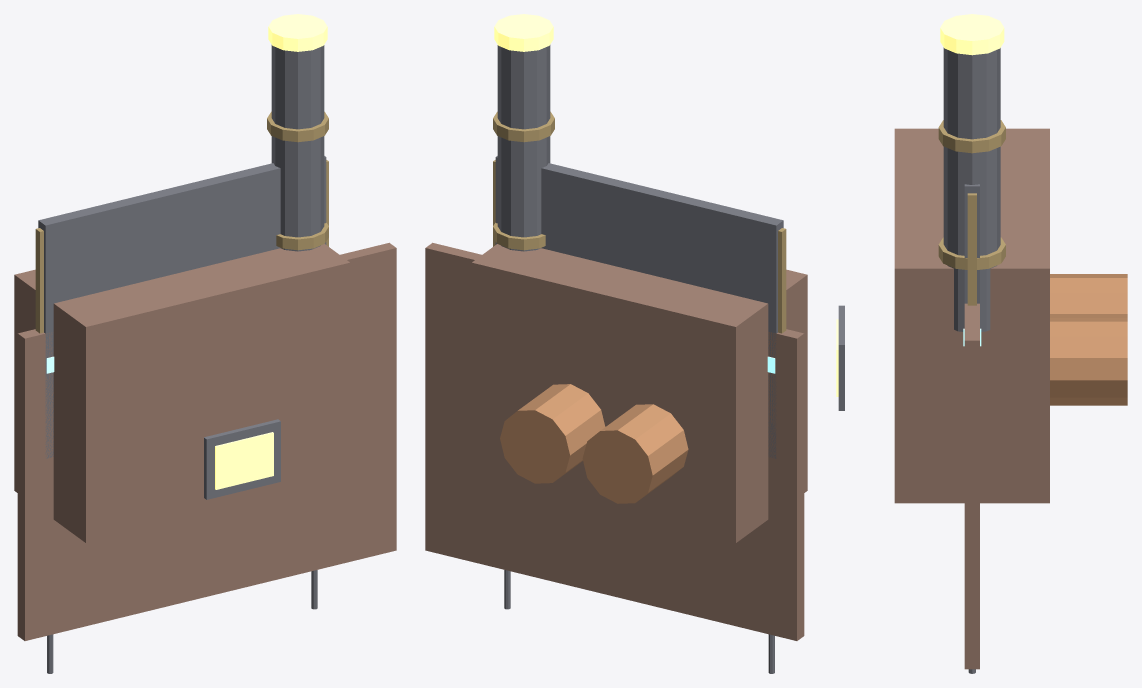
Rendered from gearforge_boiler_house.glb.
3 views of the same model, side by side, from view 1: azimuth 30°, elevation 25°; view 2: azimuth 150°, elevation 25°; view 3: azimuth 270°, elevation 25° (orthographic). The views are drawn at different scales.
Parts seen in each view (by area): view 1: gearforge_boiler_house_hall, gearforge_boiler_house_pad, gearforge_boiler_house_roof, gearforge_boiler_house_chimney, gearforge_boiler_house_furnace_mouth, gearforge_boiler_house_furnace_frame, gearforge_boiler_house_chimney_lip, gearforge_boiler_house_roof_trim, gearforge_boiler_house_chimney_band_b, gearforge_boiler_house_chimney_band_a; view 2: gearforge_boiler_house_hall, gearforge_boiler_house_pad, gearforge_boiler_house_roof, gearforge_boiler_house_chimney, gearforge_boiler_house_tank_0, gearforge_boiler_house_tank_1, gearforge_boiler_house_chimney_lip, gearforge_boiler_house_roof_trim, gearforge_boiler_house_chimney_band_b, gearforge_boiler_house_chimney_band_a; view 3: gearforge_boiler_house_hall, gearforge_boiler_house_chimney, gearforge_boiler_house_tank_1, gearforge_boiler_house_pad, gearforge_boiler_house_tank_0, gearforge_boiler_house_chimney_lip, gearforge_boiler_house_roof_trim, gearforge_boiler_house_chimney_band_b, gearforge_boiler_house_chimney_band_a, gearforge_boiler_house_roof, gearforge_boiler_house_furnace_frame.
Part boxes in pixels (x1=…): gearforge_boiler_house_hall: x1=14, y1=244, x2=350, y2=542; gearforge_boiler_house_pad: x1=17, y1=242, x2=396, y2=640; gearforge_boiler_house_roof: x1=38, y1=156, x2=326, y2=458; gearforge_boiler_house_chimney: x1=271, y1=45, x2=324, y2=251; gearforge_boiler_house_furnace_mouth: x1=215, y1=432, x2=273, y2=489; gearforge_boiler_house_furnace_frame: x1=204, y1=419, x2=280, y2=499; gearforge_boiler_house_chimney_lip: x1=268, y1=14, x2=327, y2=51; gearforge_boiler_house_roof_trim: x1=35, y1=160, x2=328, y2=333; gearforge_boiler_house_chimney_band_b: x1=267, y1=111, x2=328, y2=142; gearforge_boiler_house_chimney_band_a: x1=276, y1=222, x2=328, y2=250; gearforge_boiler_house_hall: x1=471, y1=244, x2=807, y2=542; gearforge_boiler_house_pad: x1=425, y1=242, x2=804, y2=640; gearforge_boiler_house_roof: x1=495, y1=156, x2=783, y2=458; gearforge_boiler_house_chimney: x1=497, y1=45, x2=550, y2=251; gearforge_boiler_house_tank_0: x1=582, y1=404, x2=688, y2=503; gearforge_boiler_house_tank_1: x1=500, y1=384, x2=605, y2=483; gearforge_boiler_house_chimney_lip: x1=494, y1=14, x2=553, y2=51; gearforge_boiler_house_roof_trim: x1=493, y1=160, x2=786, y2=333; gearforge_boiler_house_chimney_band_b: x1=493, y1=111, x2=554, y2=142; gearforge_boiler_house_chimney_band_a: x1=493, y1=222, x2=545, y2=250; gearforge_boiler_house_hall: x1=894, y1=128, x2=1049, y2=503; gearforge_boiler_house_chimney: x1=943, y1=47, x2=1000, y2=331; gearforge_boiler_house_tank_1: x1=1050, y1=318, x2=1127, y2=405; gearforge_boiler_house_pad: x1=964, y1=303, x2=979, y2=669; gearforge_boiler_house_tank_0: x1=1050, y1=274, x2=1127, y2=317; gearforge_boiler_house_chimney_lip: x1=940, y1=14, x2=1004, y2=55; gearforge_boiler_house_roof_trim: x1=967, y1=193, x2=976, y2=305; gearforge_boiler_house_chimney_band_b: x1=938, y1=120, x2=1005, y2=153; gearforge_boiler_house_chimney_band_a: x1=938, y1=237, x2=1005, y2=269; gearforge_boiler_house_roof: x1=964, y1=184, x2=979, y2=303; gearforge_boiler_house_furnace_frame: x1=838, y1=305, x2=844, y2=410.
Bounding box in the file's own units: 9 × 13.55 × 5.62.
